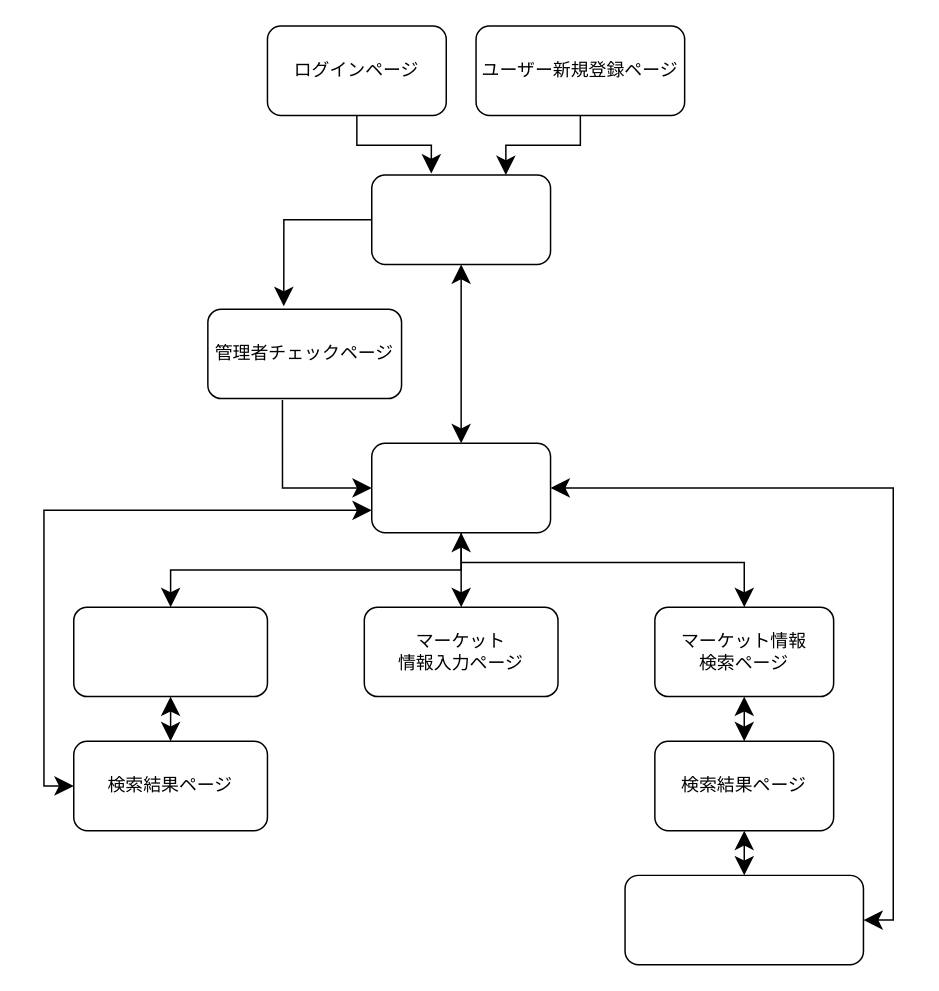
Some shapes in this 939 by 991 pixel diagram are drawn without their labels. The shapes that lost their labels are listed below. From the top down, each one's centre as x and y in pixels, then its label:
At [460,219]: "体調チェックページ".
At [460,487]: "Topページ".
At [169,651]: "体調管理検索ページ".
At [743,919]: "グラフ/コメントページ".
